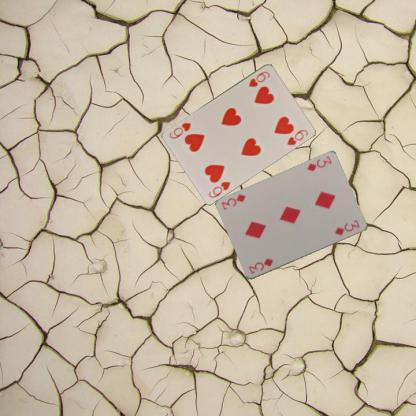3d: (304, 153, 333, 173), (246, 256, 275, 275)
6h: (206, 178, 232, 198), (246, 69, 271, 88)
